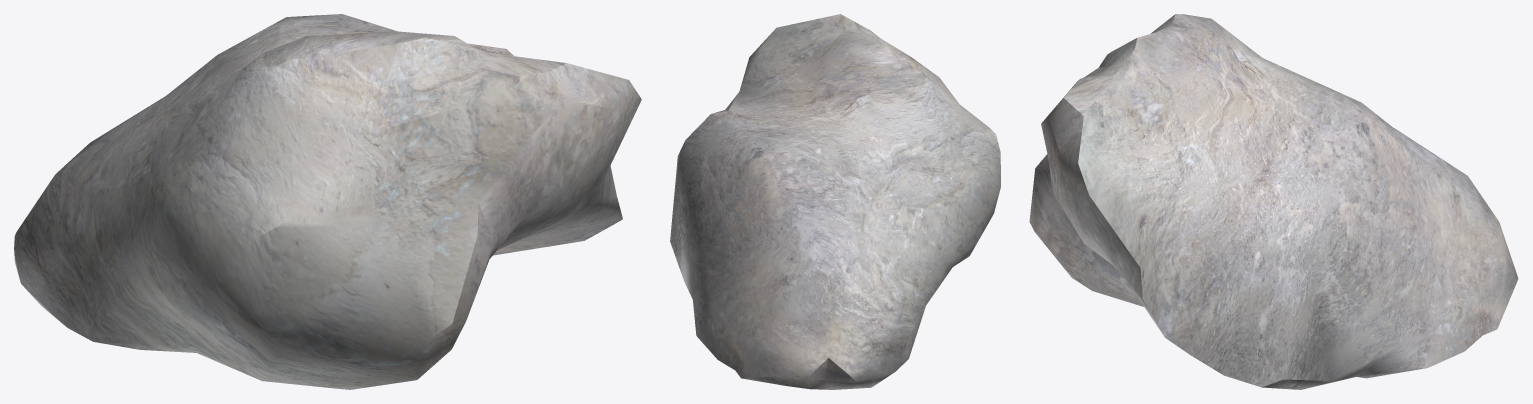
The model's file is rock_00F_lp_2k.fbx.
The picture shows the model from 3 angles, left to right: view 1: azimuth 30°, elevation 25°; view 2: azimuth 150°, elevation 25°; view 3: azimuth 270°, elevation 25°; orthographic projection. The views are drawn at different scales.
Visible parts, largest first — view 1: rock_00F_lp_2k; view 2: rock_00F_lp_2k; view 3: rock_00F_lp_2k.
Boxes of the visible parts, x1=… form: rock_00F_lp_2k: x1=14, y1=14, x2=641, y2=389; rock_00F_lp_2k: x1=670, y1=14, x2=1000, y2=389; rock_00F_lp_2k: x1=1029, y1=14, x2=1518, y2=389.
Bounding box in the file's own units: 174 × 137 × 205.
